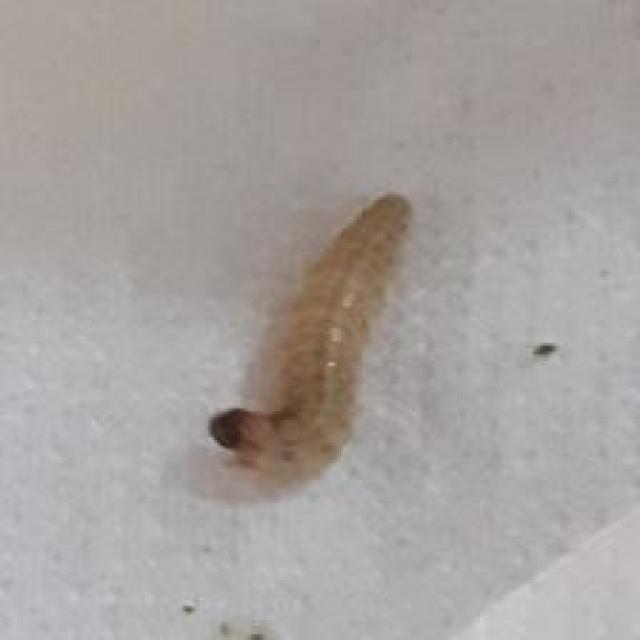white mucus: (161, 166, 482, 503)
